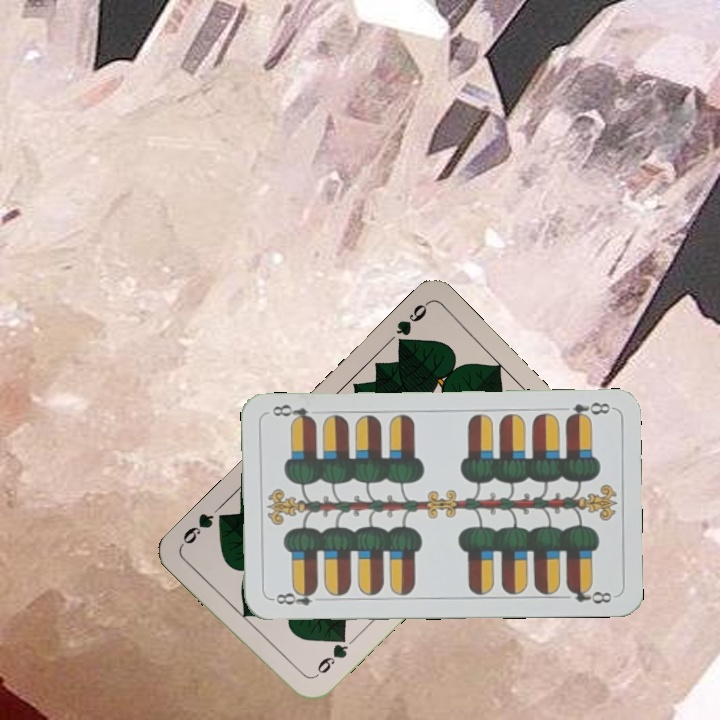E8: (561, 398, 612, 423), (268, 585, 320, 608)
G9: (309, 630, 352, 681), (391, 298, 431, 352)
